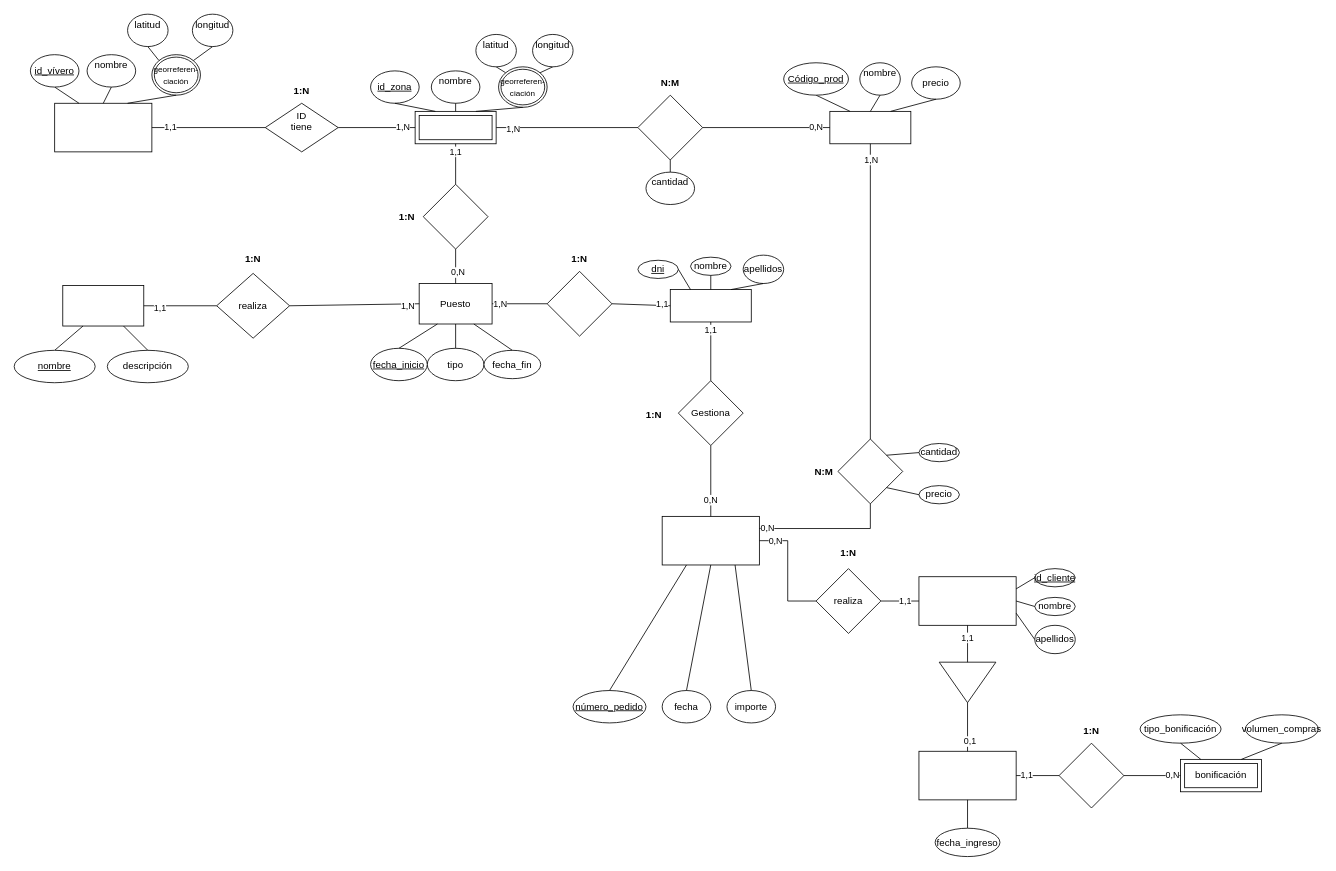
Some shapes in this 1336 by 871 pixel diagram are drawn without their labels. Here are the shapes that lost their labels. From the top down, the centre of each, then its label:
point 103,127: Vívero
point 455,127: Zona
point 670,127: Almacena
point 870,127: Producto
point 455,216: ubicado en
point 103,305: Tarea
point 579,303: Ocupa
point 710,305: Empleado
point 870,471: contiene
point 710,540: Pedido
point 967,600: Cliente
point 967,775: Cliente Tajinaste Plus
point 1091,775: Id recibe
